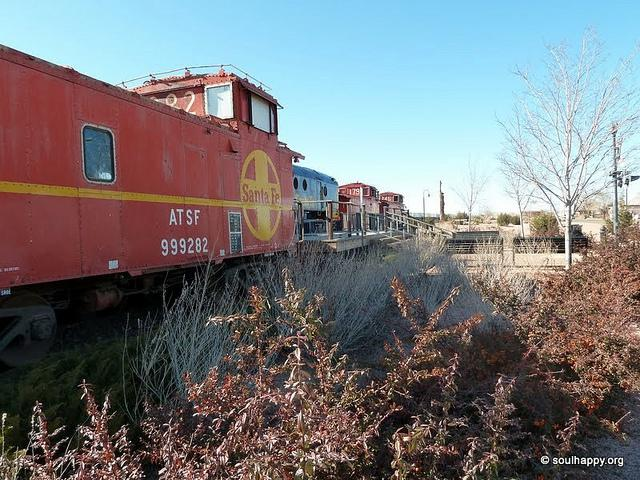Train: (3, 45, 307, 368), (289, 164, 342, 235)
